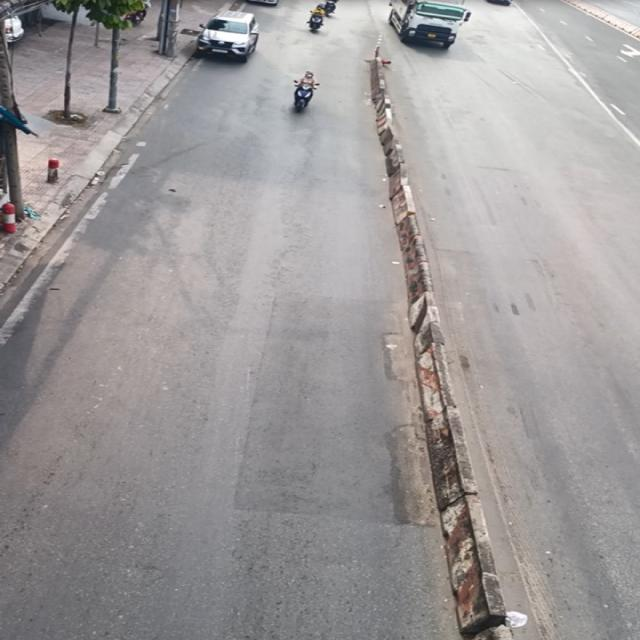motorbike: (292, 64, 321, 116)
